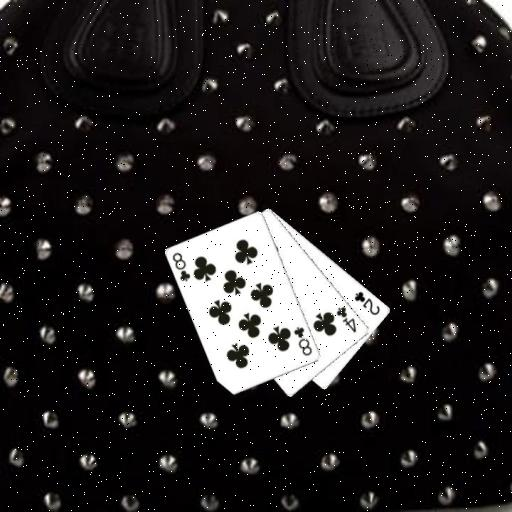2C: (352, 288, 382, 316)
4C: (334, 304, 359, 334)
8C: (291, 324, 314, 358), (169, 250, 192, 284)
